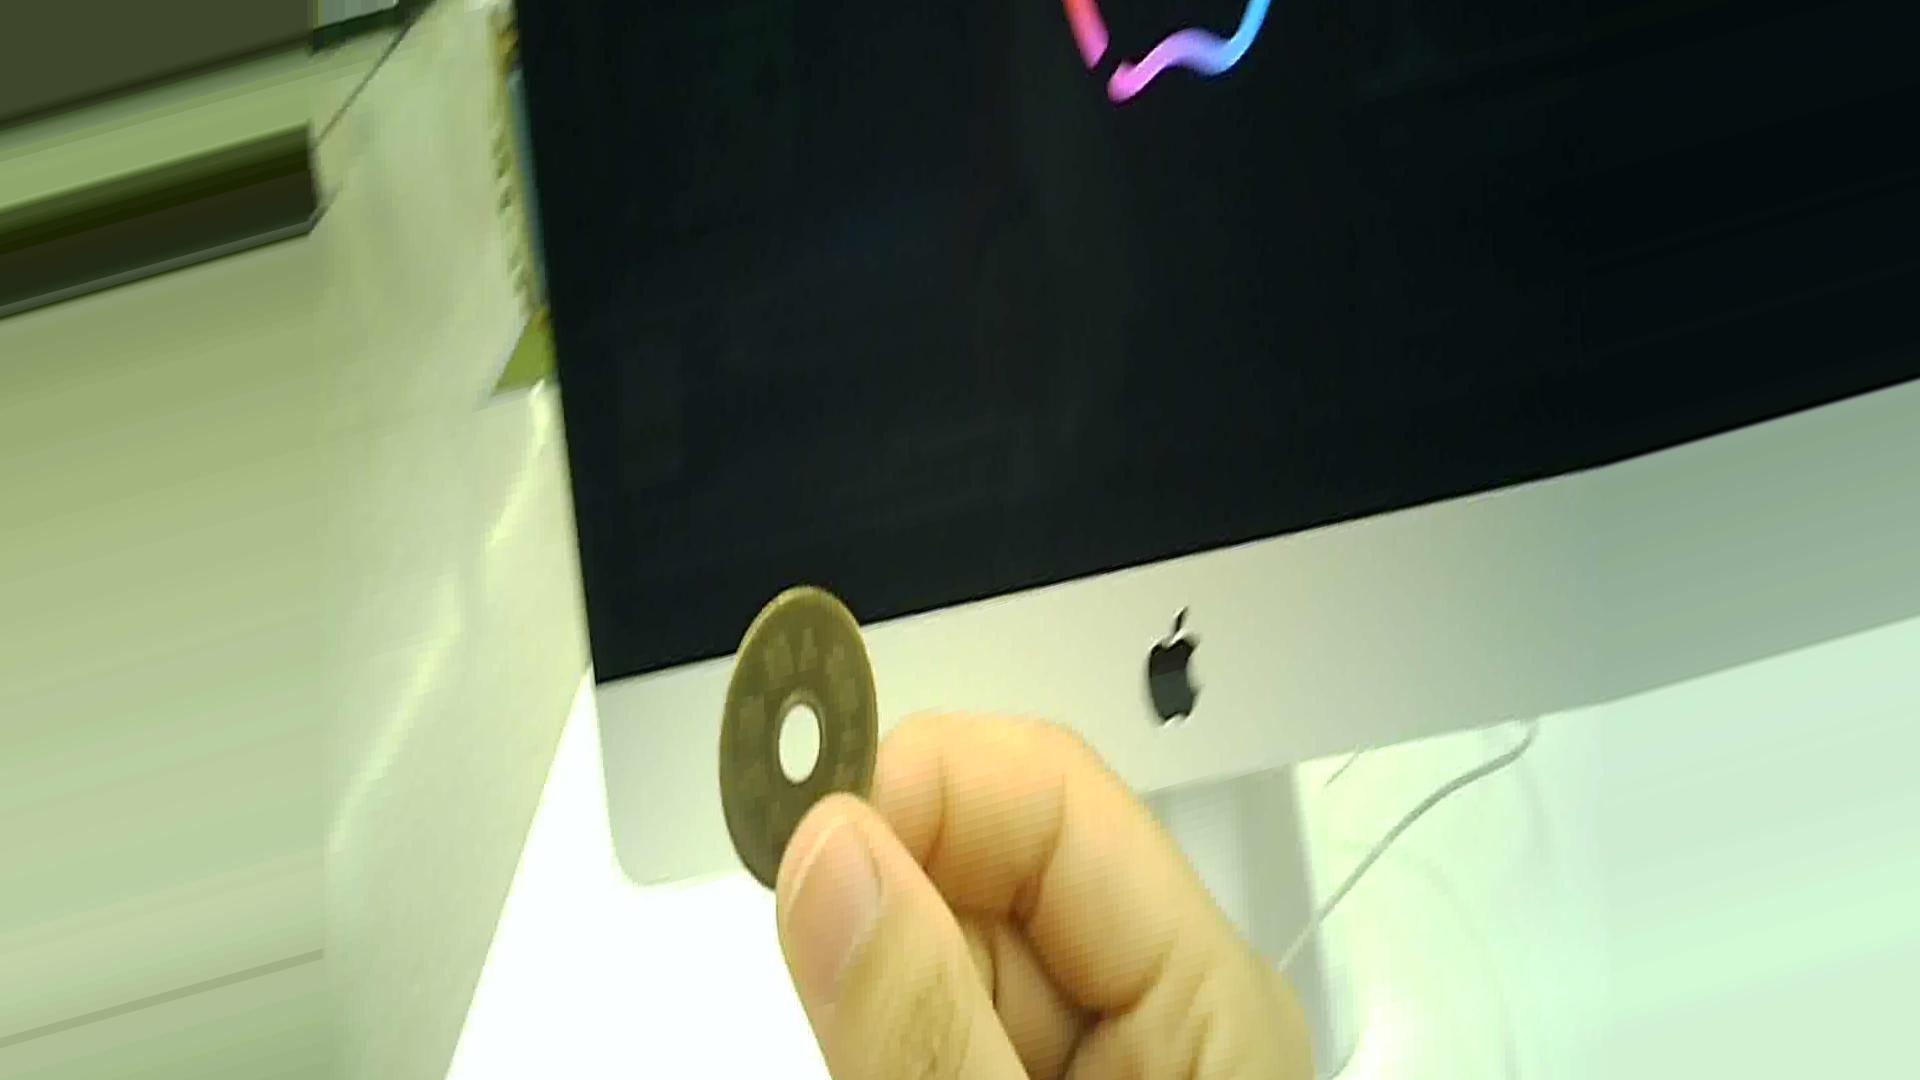5 Yen: (717, 597, 915, 913)
